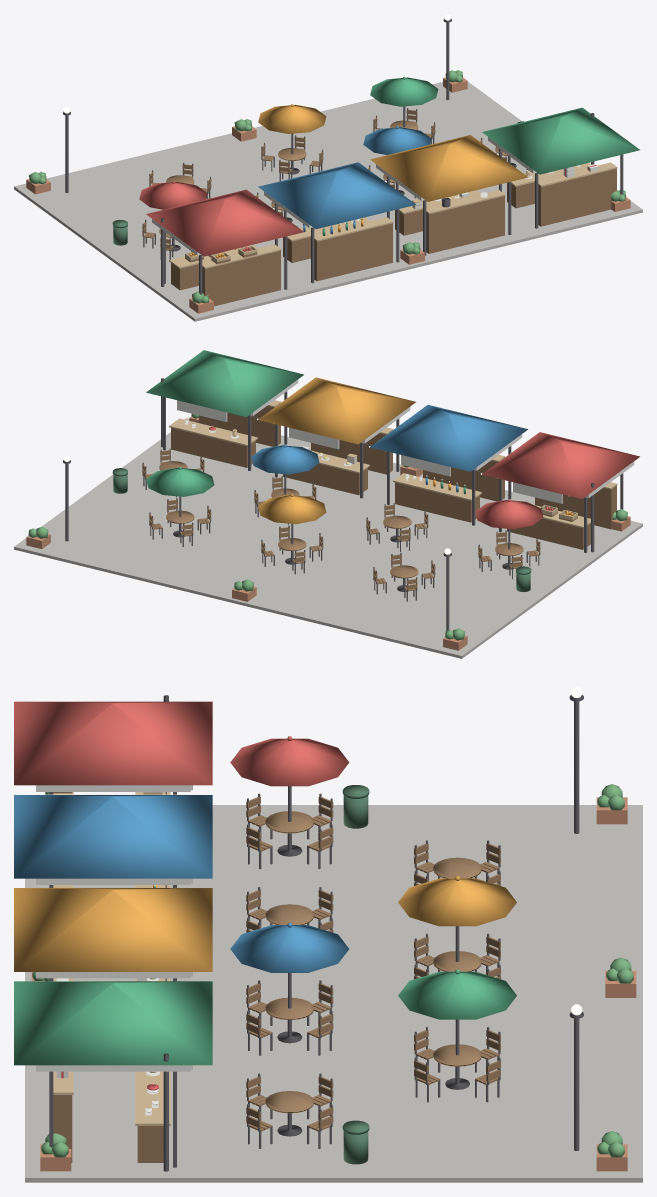
The model's file is foodcourt-blender-v1.glb.
The picture shows the model from 3 angles, top to bottom: view 1: azimuth 30°, elevation 25°; view 2: azimuth 150°, elevation 25°; view 3: azimuth 270°, elevation 25°; orthographic projection. The views are drawn at different scales.
Visible parts, largest first — view 1: Cube, Cube.007, Cone.002, Cone.003, Cone.001, Cone, Cube.008, Cube.001, Cube.214, Cube.005, Sphere.018; view 2: Cube, Cube.007, Cone.001, Cone.002, Cone.003, Cone, Cube.001, Cube.005, Cube.008, Cube.214, Sphere.018, Cylinder.271; view 3: Cube, Cone, Cone.003, Cone.002, Cone.001, Cube.007, Cube.001, Cube.005, Cube.214, Cube.008, Sphere.018, Cylinder.271.
Boxes of the visible parts, x1,y1,x2,y2 form: Cube: [14, 81, 642, 321]; Cube.007: [142, 109, 616, 306]; Cone.002: [258, 104, 528, 201]; Cone.003: [370, 76, 639, 174]; Cone.001: [258, 126, 431, 234]; Cone: [139, 181, 303, 256]; Cube.008: [169, 162, 617, 268]; Cube.001: [63, 19, 623, 294]; Cube.214: [26, 77, 630, 313]; Cube.005: [152, 137, 598, 255]; Sphere.018: [29, 70, 625, 303]; Cube: [14, 419, 642, 658]; Cube.007: [142, 406, 616, 591]; Cone.001: [251, 405, 527, 492]; Cone.002: [258, 377, 415, 524]; Cone.003: [146, 350, 303, 496]; Cone: [475, 432, 639, 529]; Cube.001: [63, 378, 623, 631]; Cube.005: [177, 379, 634, 503]; Cube.008: [169, 400, 617, 528]; Cube.214: [26, 416, 630, 650]; Sphere.018: [28, 414, 627, 640]; Cylinder.271: [112, 468, 531, 592]; Cube: [25, 805, 642, 1182]; Cone: [14, 701, 349, 786]; Cone.003: [14, 969, 516, 1065]; Cone.002: [14, 876, 516, 971]; Cone.001: [14, 795, 348, 972]; Cube.007: [53, 792, 500, 1162]; Cube.001: [49, 695, 583, 1171]; Cube.005: [36, 785, 192, 1115]; Cube.214: [31, 797, 636, 1171]; Cube.008: [53, 792, 170, 1125]; Sphere.018: [32, 784, 633, 1157]; Cylinder.271: [342, 785, 369, 1164].
Size of the model in its own units: 20 by 3.82 by 14.25.
